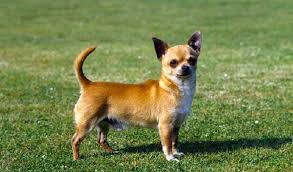chihuahua: (61, 27, 206, 162)
